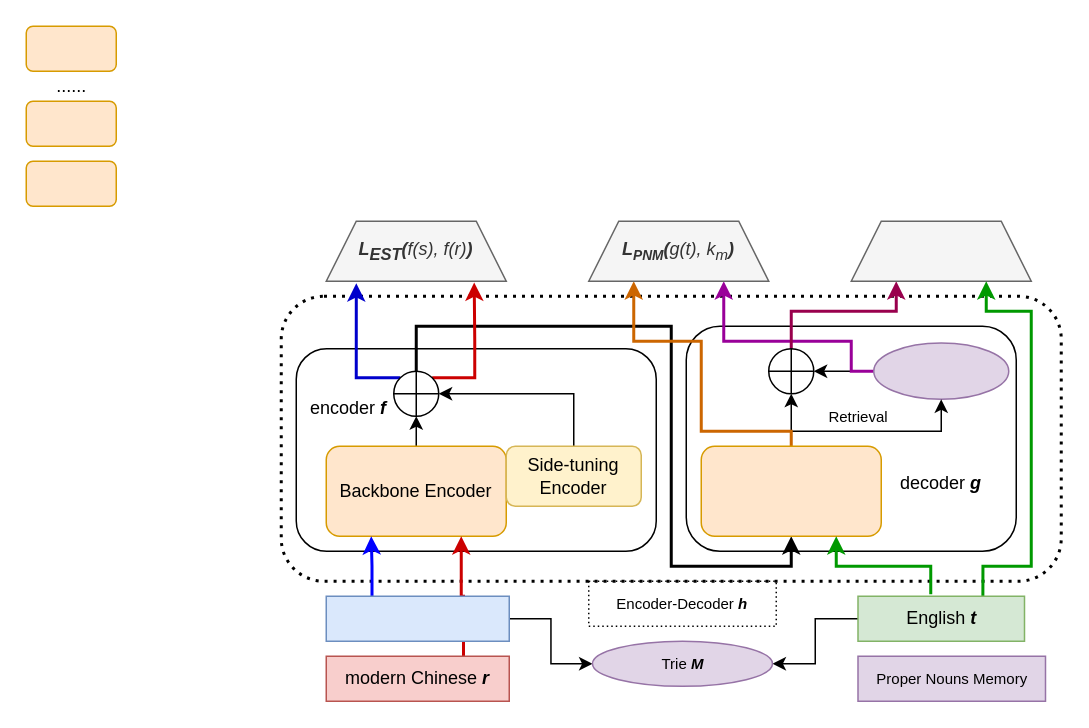
The diagram is 1089 pixels wide and 728 high, and some of its shapes have lost their labels. The shapes that lost their labels are listed below. From the top down, each one's centre as x and y in pixels, then its label:
At point (940, 250): "L CE ( h(s, t <i ), t i )".
At point (940, 370): "Datastore (K, T)".
At point (790, 490): "Backbone Decoder".
At point (417, 618): "classical Chinese s".
